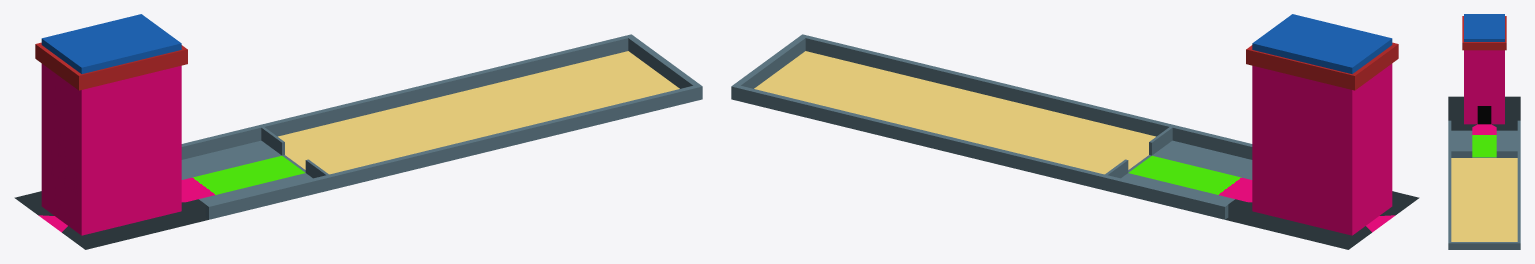
File: FarmTest.fbx
The picture shows the model from 3 angles, left to right: view 1: azimuth 30°, elevation 25°; view 2: azimuth 150°, elevation 25°; view 3: azimuth 270°, elevation 25°; orthographic projection. The views are drawn at different scales.
Parts seen in each view (by area): view 1: Plane; view 2: Plane; view 3: Plane.
Part boxes in pixels (box(x1,y1,x2,y2)): Plane: box(14, 14, 702, 249); Plane: box(731, 14, 1419, 249); Plane: box(1448, 14, 1520, 249).
Size of the model in its own units: 5 by 1.3 by 1.
